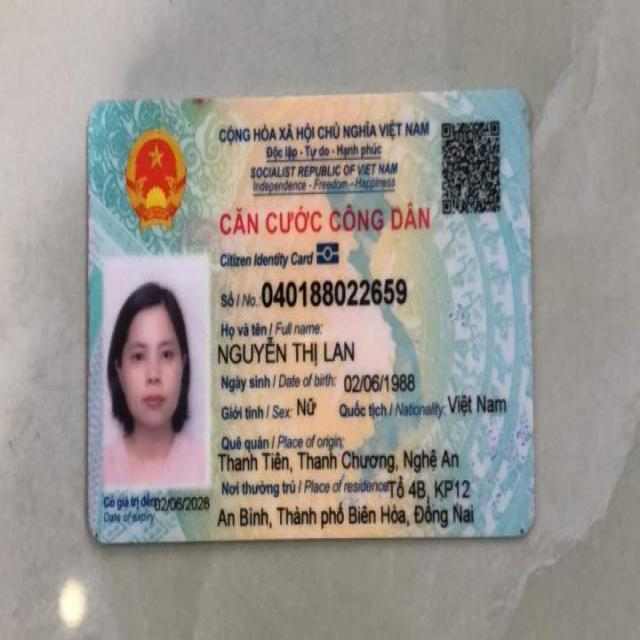bottom_left: (74, 508, 126, 560)
bottom_right: (504, 504, 548, 550)
image_person: (100, 258, 212, 486)
top_left: (72, 89, 121, 141)
top_right: (494, 74, 540, 122)
